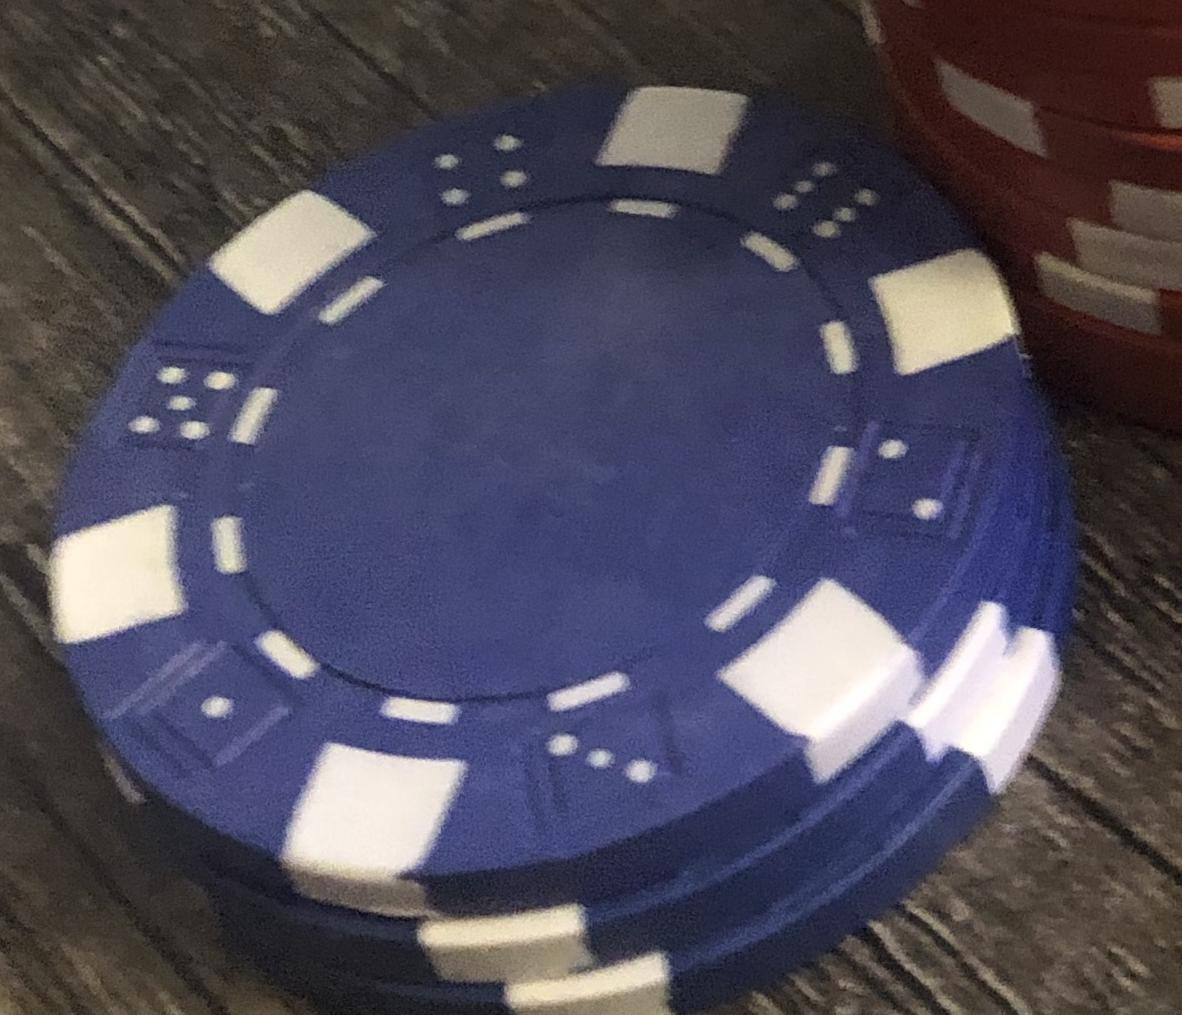Chip: (1, 1, 1182, 1015)
